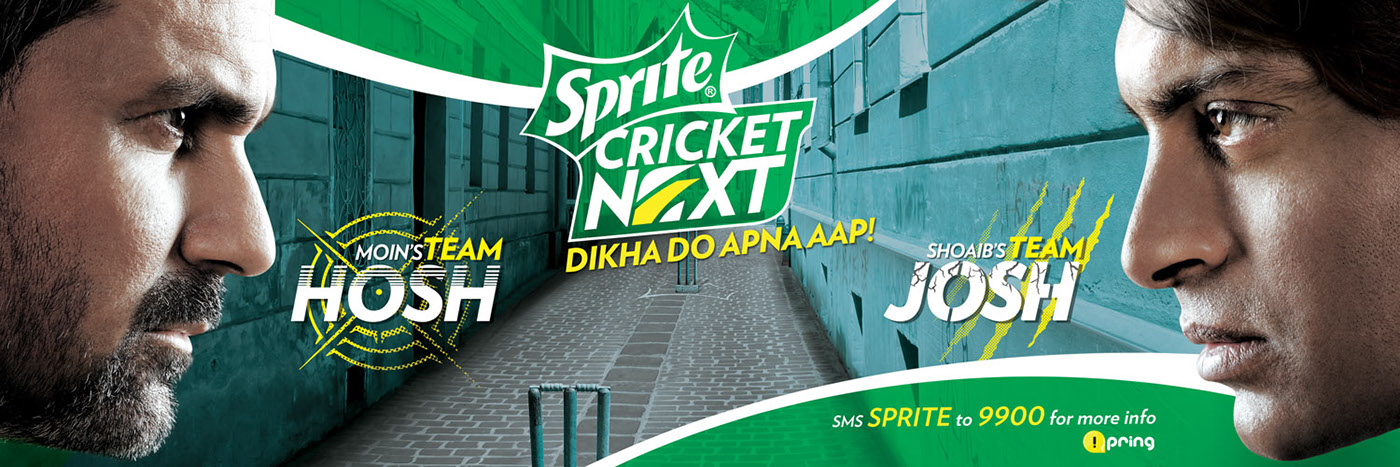sprite: (545, 31, 712, 144), (547, 31, 712, 144), (545, 31, 712, 139)
